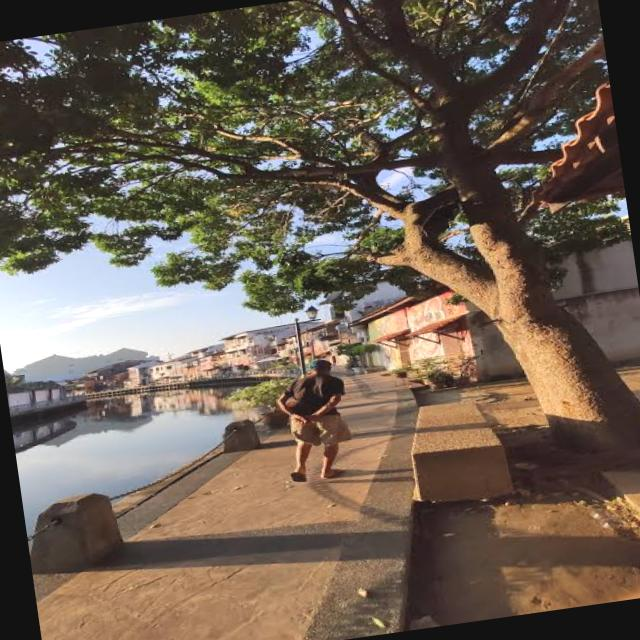Person: (268, 348, 368, 491)
